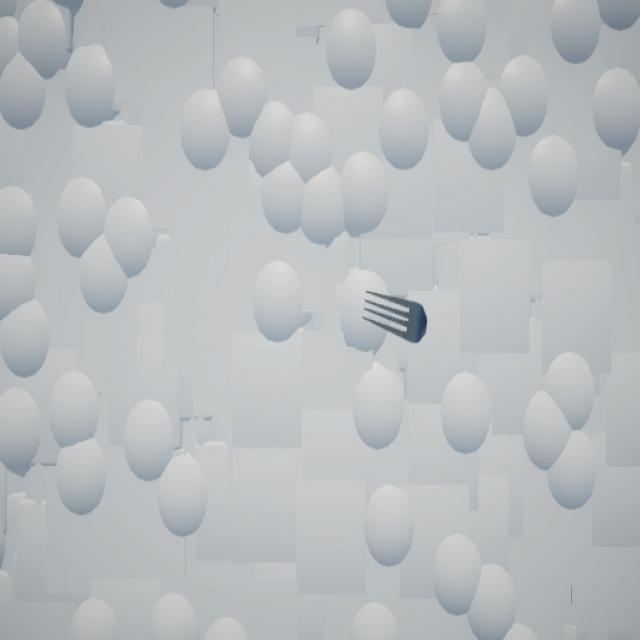top_folk: (363, 292, 429, 344)
